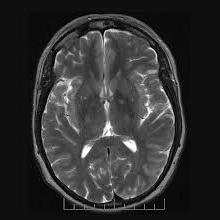Normal_Brain: (1, 4, 220, 220)
